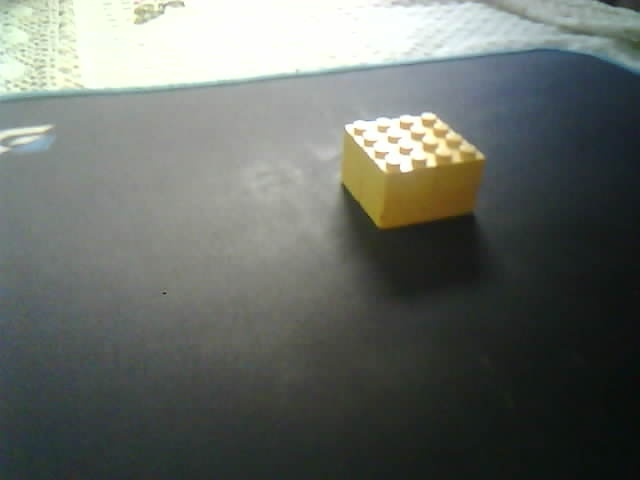lego: (340, 110, 486, 231)
